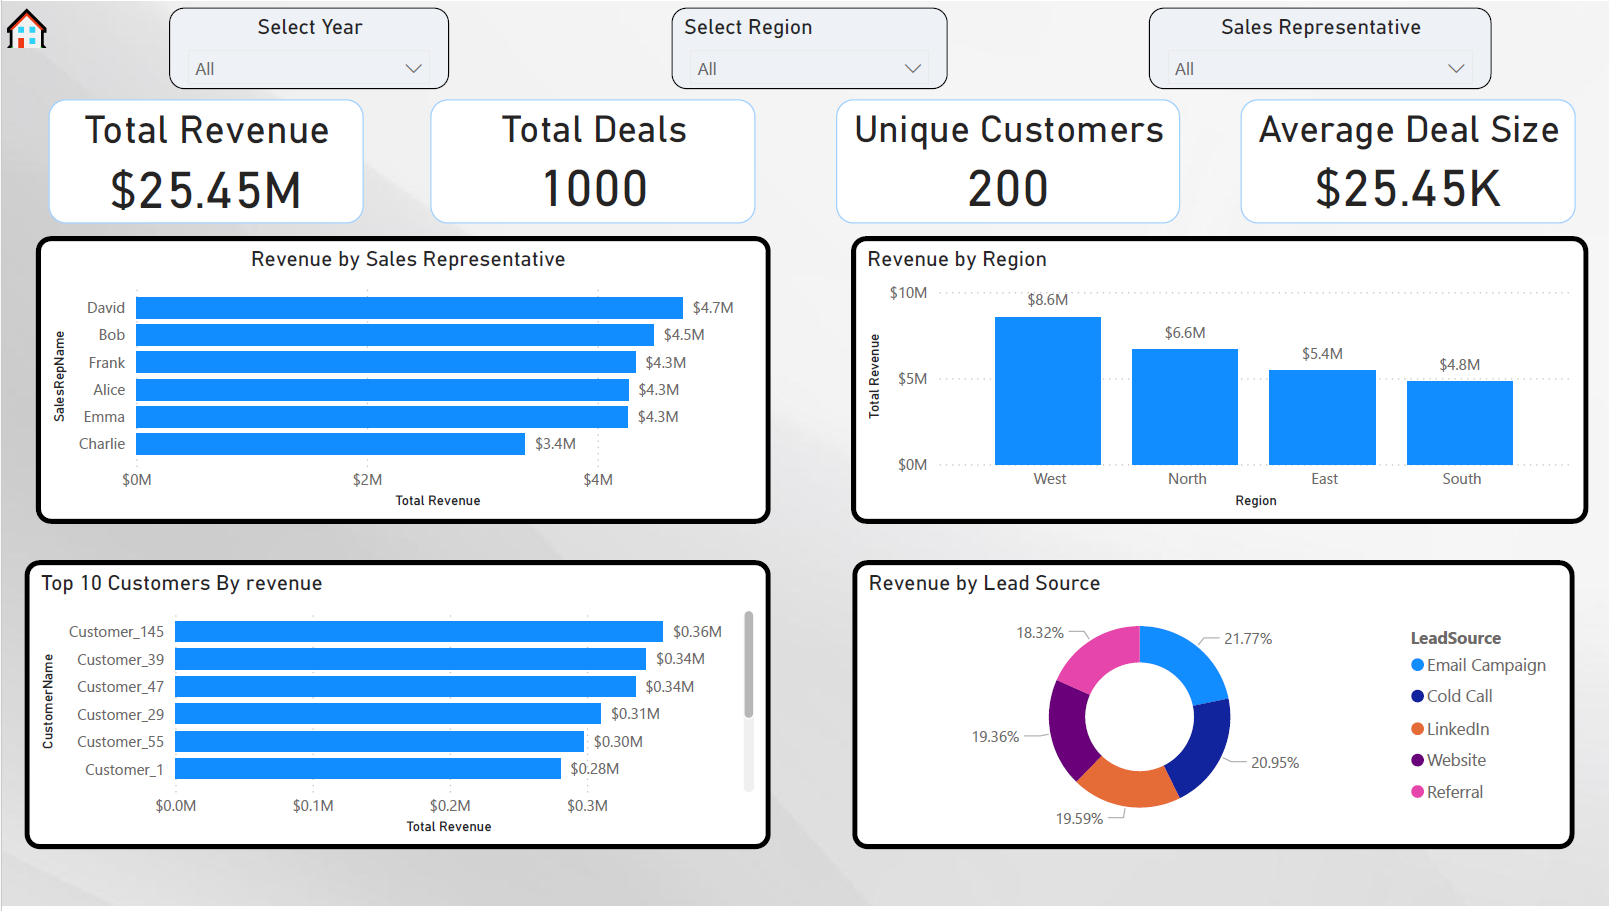

This screenshot's page, from the dashboard's own definition file:
{"tool":"powerbi","page":{"name":"Sales Performance Analysis","canvas":[1280,720],"ordinal":3},"visuals":[{"type":"card","title":"Total Revenue","fields":{"Values":["Fact_Deals.Total Revenue"]},"box":[36.7,78.3,250.7,99],"z":0},{"type":"card","title":"Total Deals","fields":{"Values":["Fact_Deals.Total Deals"]},"box":[341.2,78.3,259.2,99],"z":1000},{"type":"card","title":"Unique Customers","fields":{"Values":["Measures (2).Unique Customers"]},"box":[663.5,78.4,273.9,98.9],"z":2000},{"type":"card","title":"Average Deal Size","fields":{"Values":["Fact_Deals.Avg Deal Size"]},"box":[985.6,78.3,266.6,99],"z":3000},{"type":"clusteredBarChart","title":"Revenue by Sales Representative","fields":{"Category":["Dim_SalesRep.SalesRepName"],"Y":["Fact_Deals.Total Revenue"]},"box":[26.5,187,585.1,229.2],"z":4000},{"type":"clusteredColumnChart","title":"Revenue by Region","fields":{"Category":["Dim_Customer.Region"],"Y":["Fact_Deals.Total Revenue"]},"box":[676.2,187.1,587,228.7],"z":5000},{"type":"barChart","title":"Top 10 Customers By revenue","fields":{"Category":["Dim_Customer.CustomerName"],"Y":["Fact_Deals.Total Revenue"]},"box":[18.1,445.2,593.6,230.4],"z":6000},{"type":"donutChart","title":"Revenue by Lead Source","fields":{"Category":["Dim_LeadSource.LeadSource"],"Y":["Fact_Deals.Total Revenue"]},"box":[676.8,445.2,575.5,230.4],"z":7000},{"type":"slicer","title":"Select Year ","fields":{"Values":["Dim_Date.Year"]},"box":[133.3,4.9,222.6,64.8],"z":8000},{"type":"slicer","title":"Select Region","fields":{"Values":["Dim_Customer.Region"]},"box":[533.2,4.9,220.1,64.8],"z":9000},{"type":"slicer","title":"Sales Representative","fields":{"Values":["Dim_SalesRep.SalesRepName"]},"box":[913.5,4.9,272.7,64.8],"z":10000},{"type":"pageNavigator","title":"🏠","box":[0,0,51.9,37.4],"z":11000}]}

Visuals, with their boxes in screenshot pixels (x1, y1, x2, y2), scaled from the page's 1280x720 canvas onto the 1609x911 screenshot:
"Total Revenue" card: <box>46,99,361,224</box>
"Total Deals" card: <box>429,99,755,224</box>
"Unique Customers" card: <box>834,99,1178,224</box>
"Average Deal Size" card: <box>1239,99,1574,224</box>
"Revenue by Sales Representative" clusteredBarChart: <box>33,237,769,527</box>
"Revenue by Region" clusteredColumnChart: <box>850,237,1588,526</box>
"Top 10 Customers By revenue" barChart: <box>23,563,769,855</box>
"Revenue by Lead Source" donutChart: <box>851,563,1574,855</box>
"Select Year " slicer: <box>168,6,447,88</box>
"Select Region" slicer: <box>670,6,947,88</box>
"Sales Representative" slicer: <box>1148,6,1491,88</box>
"🏠" pageNavigator: <box>0,0,65,47</box>
